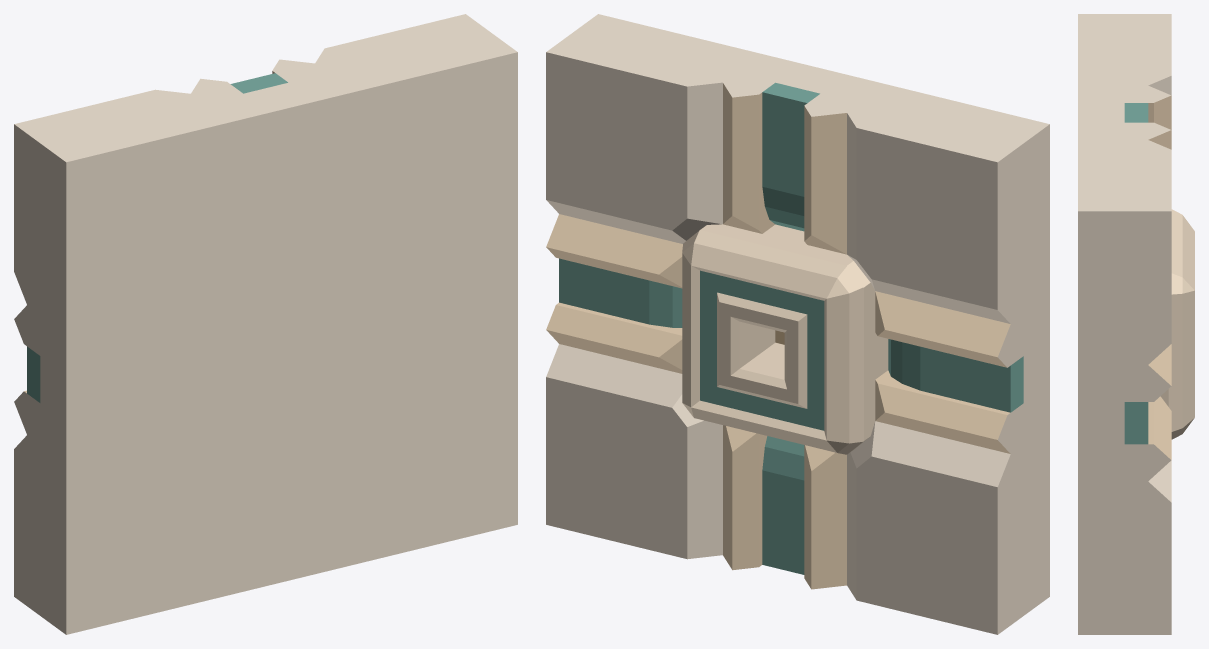
File: Puzzle_Wall_Conduit_Keyhole_Cross.glb
3 views of the same model, side by side, from view 1: azimuth 30°, elevation 25°; view 2: azimuth 150°, elevation 25°; view 3: azimuth 270°, elevation 25° (orthographic). The views are drawn at different scales.
Visible parts, largest first — view 1: Puzzle_Wall_Conduit_Keyhole_Cross; view 2: Puzzle_Wall_Conduit_Keyhole_Cross; view 3: Puzzle_Wall_Conduit_Keyhole_Cross.
Part boxes in pixels (left/top/right/bottom): Puzzle_Wall_Conduit_Keyhole_Cross: left=14, top=14, right=517, bottom=634; Puzzle_Wall_Conduit_Keyhole_Cross: left=546, top=14, right=1049, bottom=634; Puzzle_Wall_Conduit_Keyhole_Cross: left=1078, top=14, right=1194, bottom=634.
Bounding box in the file's own units: 1 × 1 × 0.25.
